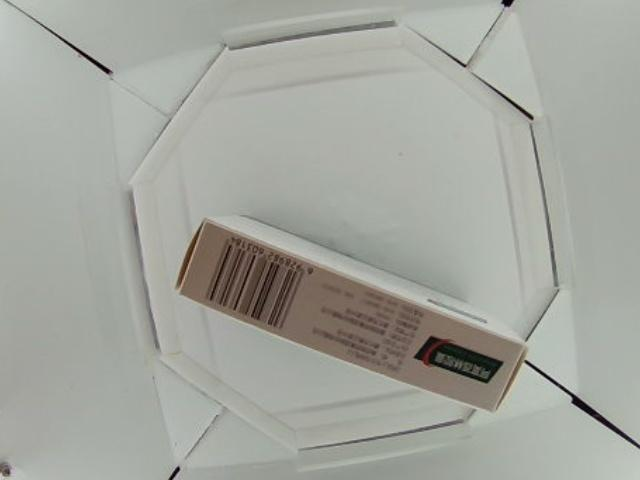Medicine: (175, 218, 529, 412)
